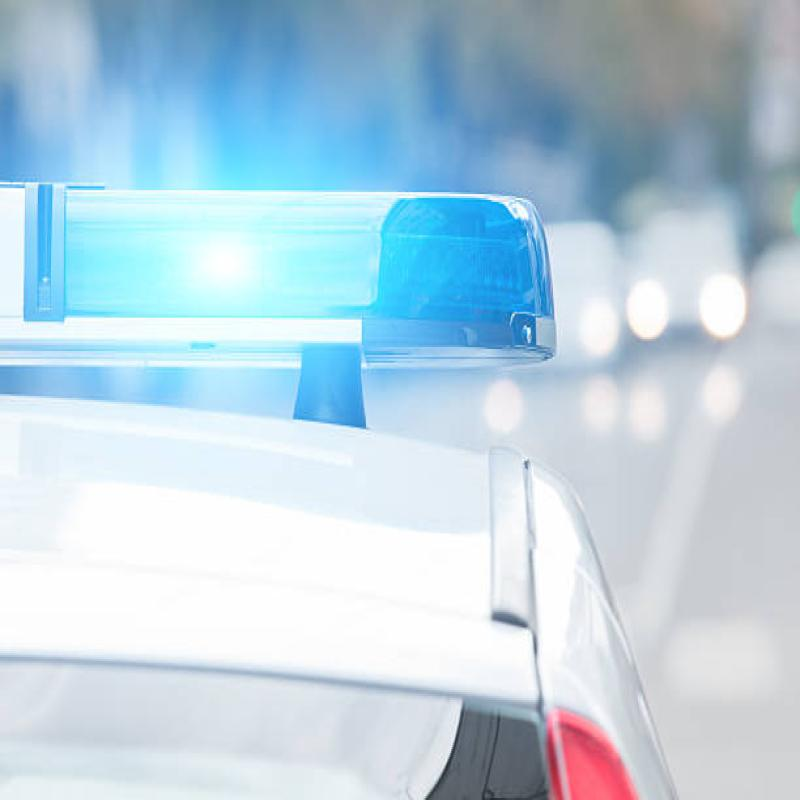AmbulanceSiren: (0, 143, 560, 387)
